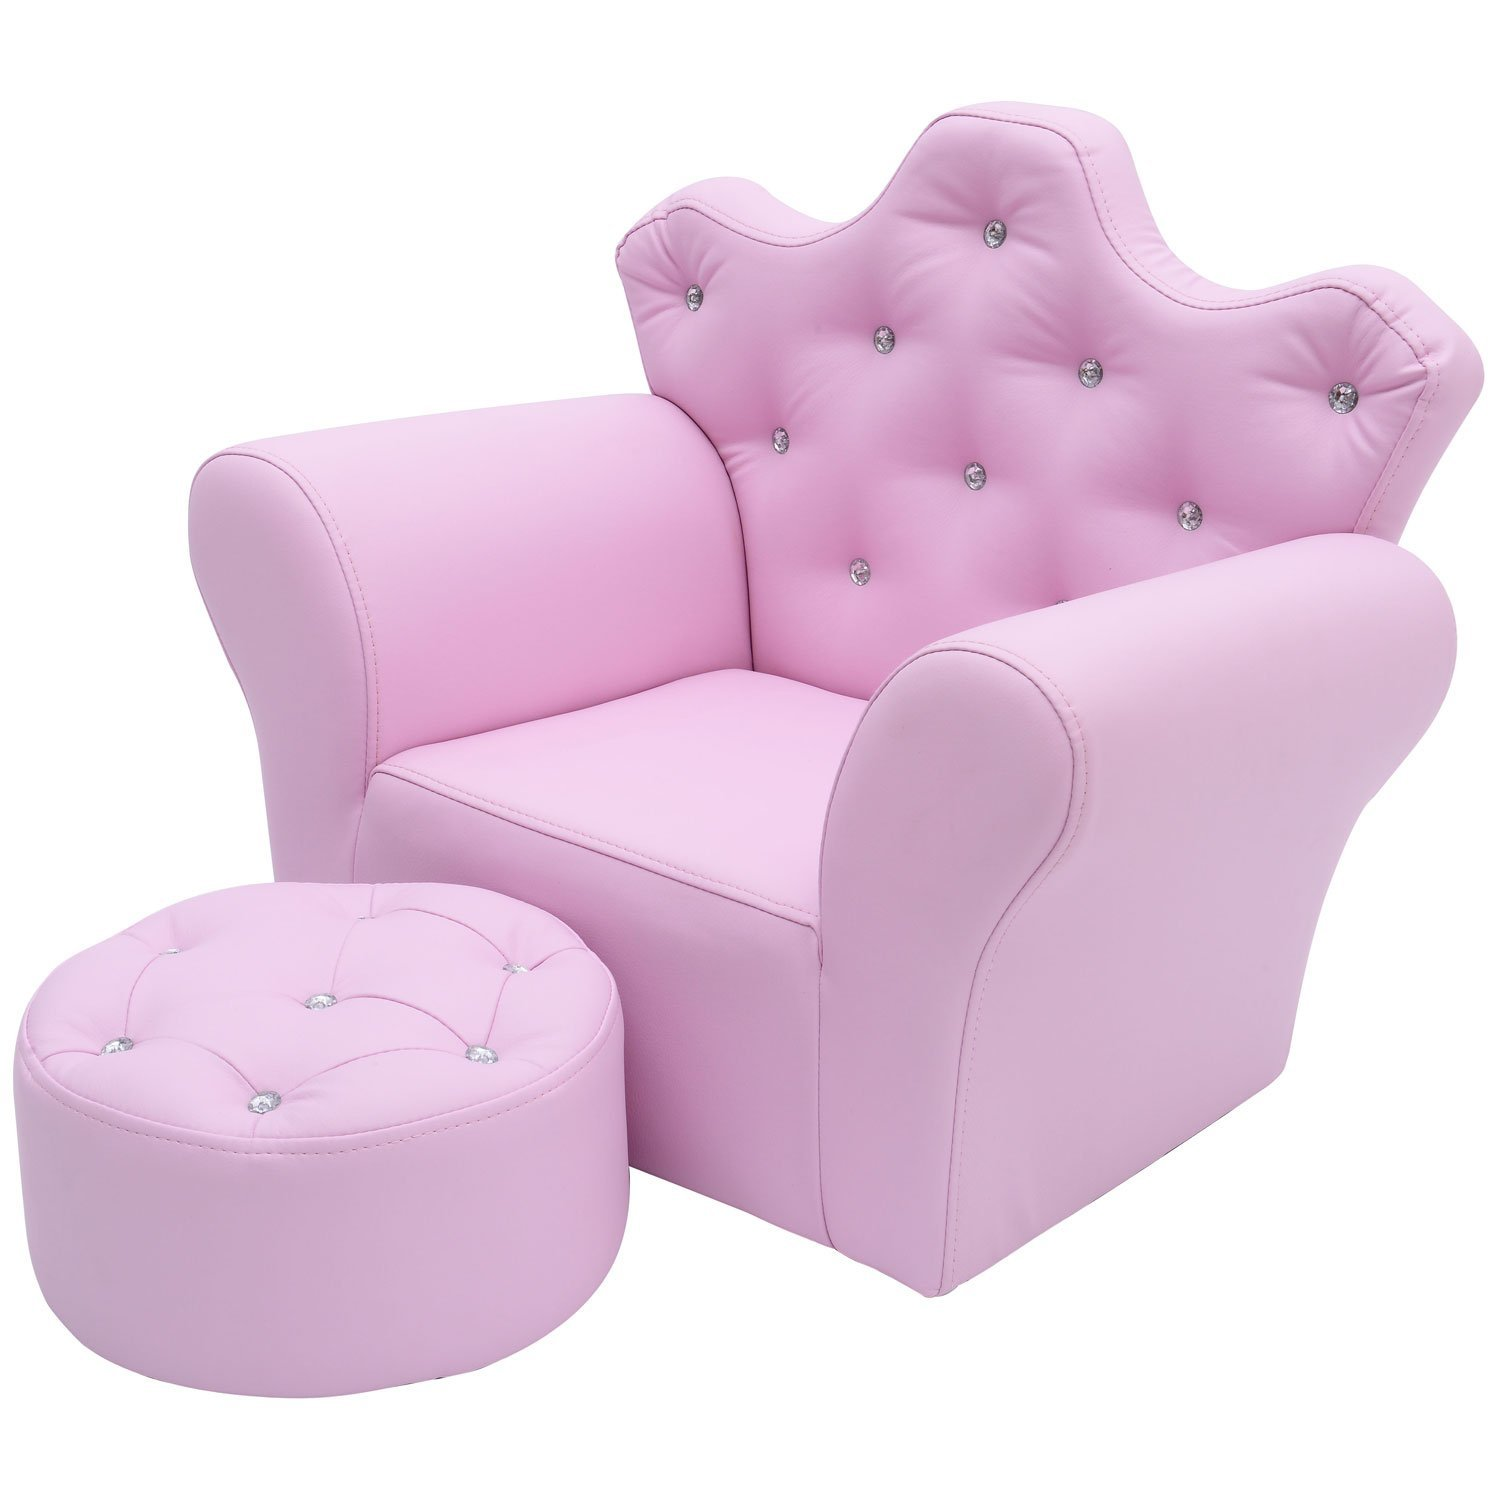chairs: (179, 107, 1484, 1302), (12, 879, 635, 1413)
